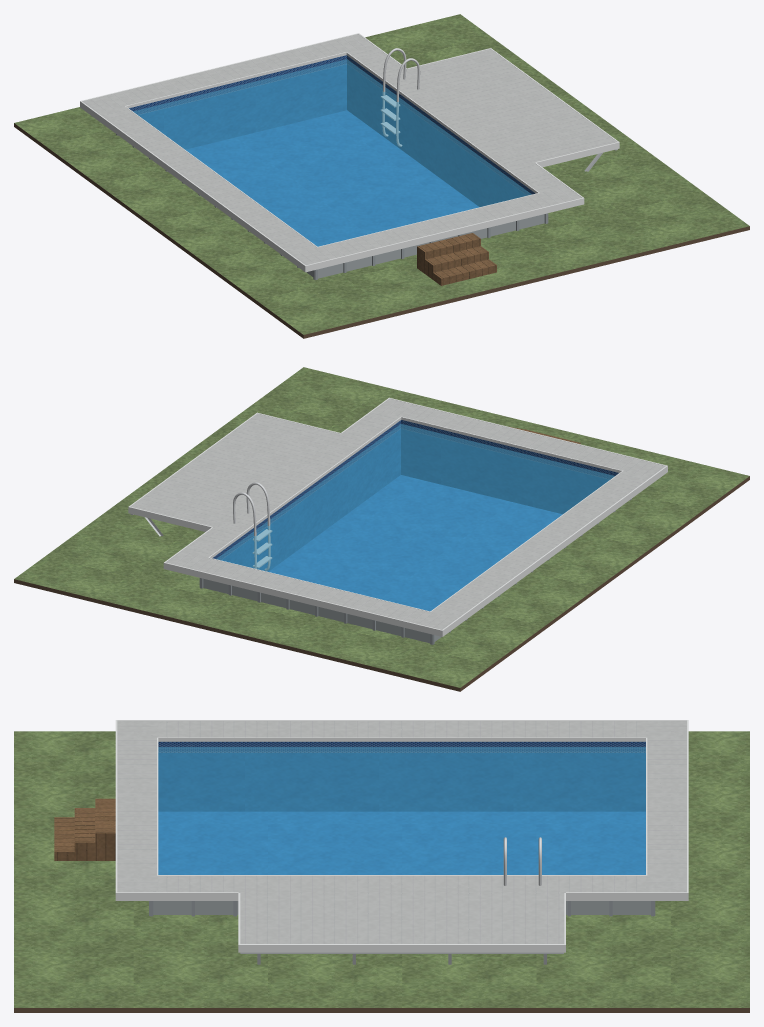
File: kayak-pool-16x24-gray-t-rec-nofence.03783ea94e.glb
3 renders of one model, top to bottom at view 1: azimuth 30°, elevation 25°; view 2: azimuth 150°, elevation 25°; view 3: azimuth 270°, elevation 25°, orthographic. The views are drawn at different scales.
Parts seen in each view (by area): view 1: ground, water, deck, liner_floor, liner_wall, fascia, soil, steps, wall, steel; view 2: ground, water, deck, liner_floor, liner_wall, fascia, soil, wall, steel; view 3: ground, water, deck, liner_wall, liner_floor, fascia, soil, steps, wall, stud.
Part boxes in pixels (left/top/right/bottom): ground: left=14, top=14, right=749, bottom=334; water: left=133, top=59, right=531, bottom=246; deck: left=82, top=34, right=617, bottom=265; liner_floor: left=186, top=110, right=478, bottom=246; liner_wall: left=129, top=55, right=535, bottom=206; fascia: left=80, top=33, right=619, bottom=272; soil: left=14, top=123, right=749, bottom=338; steps: left=417, top=233, right=496, bottom=285; wall: left=306, top=214, right=544, bottom=278; steel: left=380, top=48, right=420, bottom=146; ground: left=14, top=367, right=749, bottom=687; water: left=216, top=424, right=614, bottom=611; deck: left=130, top=398, right=665, bottom=629; liner_floor: left=269, top=475, right=562, bottom=611; liner_wall: left=212, top=420, right=618, bottom=571; fascia: left=128, top=397, right=667, bottom=636; soil: left=14, top=476, right=749, bottom=691; wall: left=203, top=578, right=441, bottom=643; steel: left=233, top=482, right=272, bottom=570; ground: left=14, top=731, right=749, bottom=1007; water: left=158, top=747, right=645, bottom=874; deck: left=117, top=721, right=686, bottom=943; liner_wall: left=158, top=741, right=645, bottom=811; liner_floor: left=158, top=811, right=645, bottom=874; fascia: left=115, top=720, right=688, bottom=952; soil: left=14, top=1008, right=749, bottom=1012; steps: left=54, top=798, right=115, bottom=860; wall: left=153, top=901, right=650, bottom=914; stud: left=240, top=952, right=563, bottom=964.
Size of the model in its own units: 9.75 by 1.9 by 10.97.
12 materials, 5 textured.
